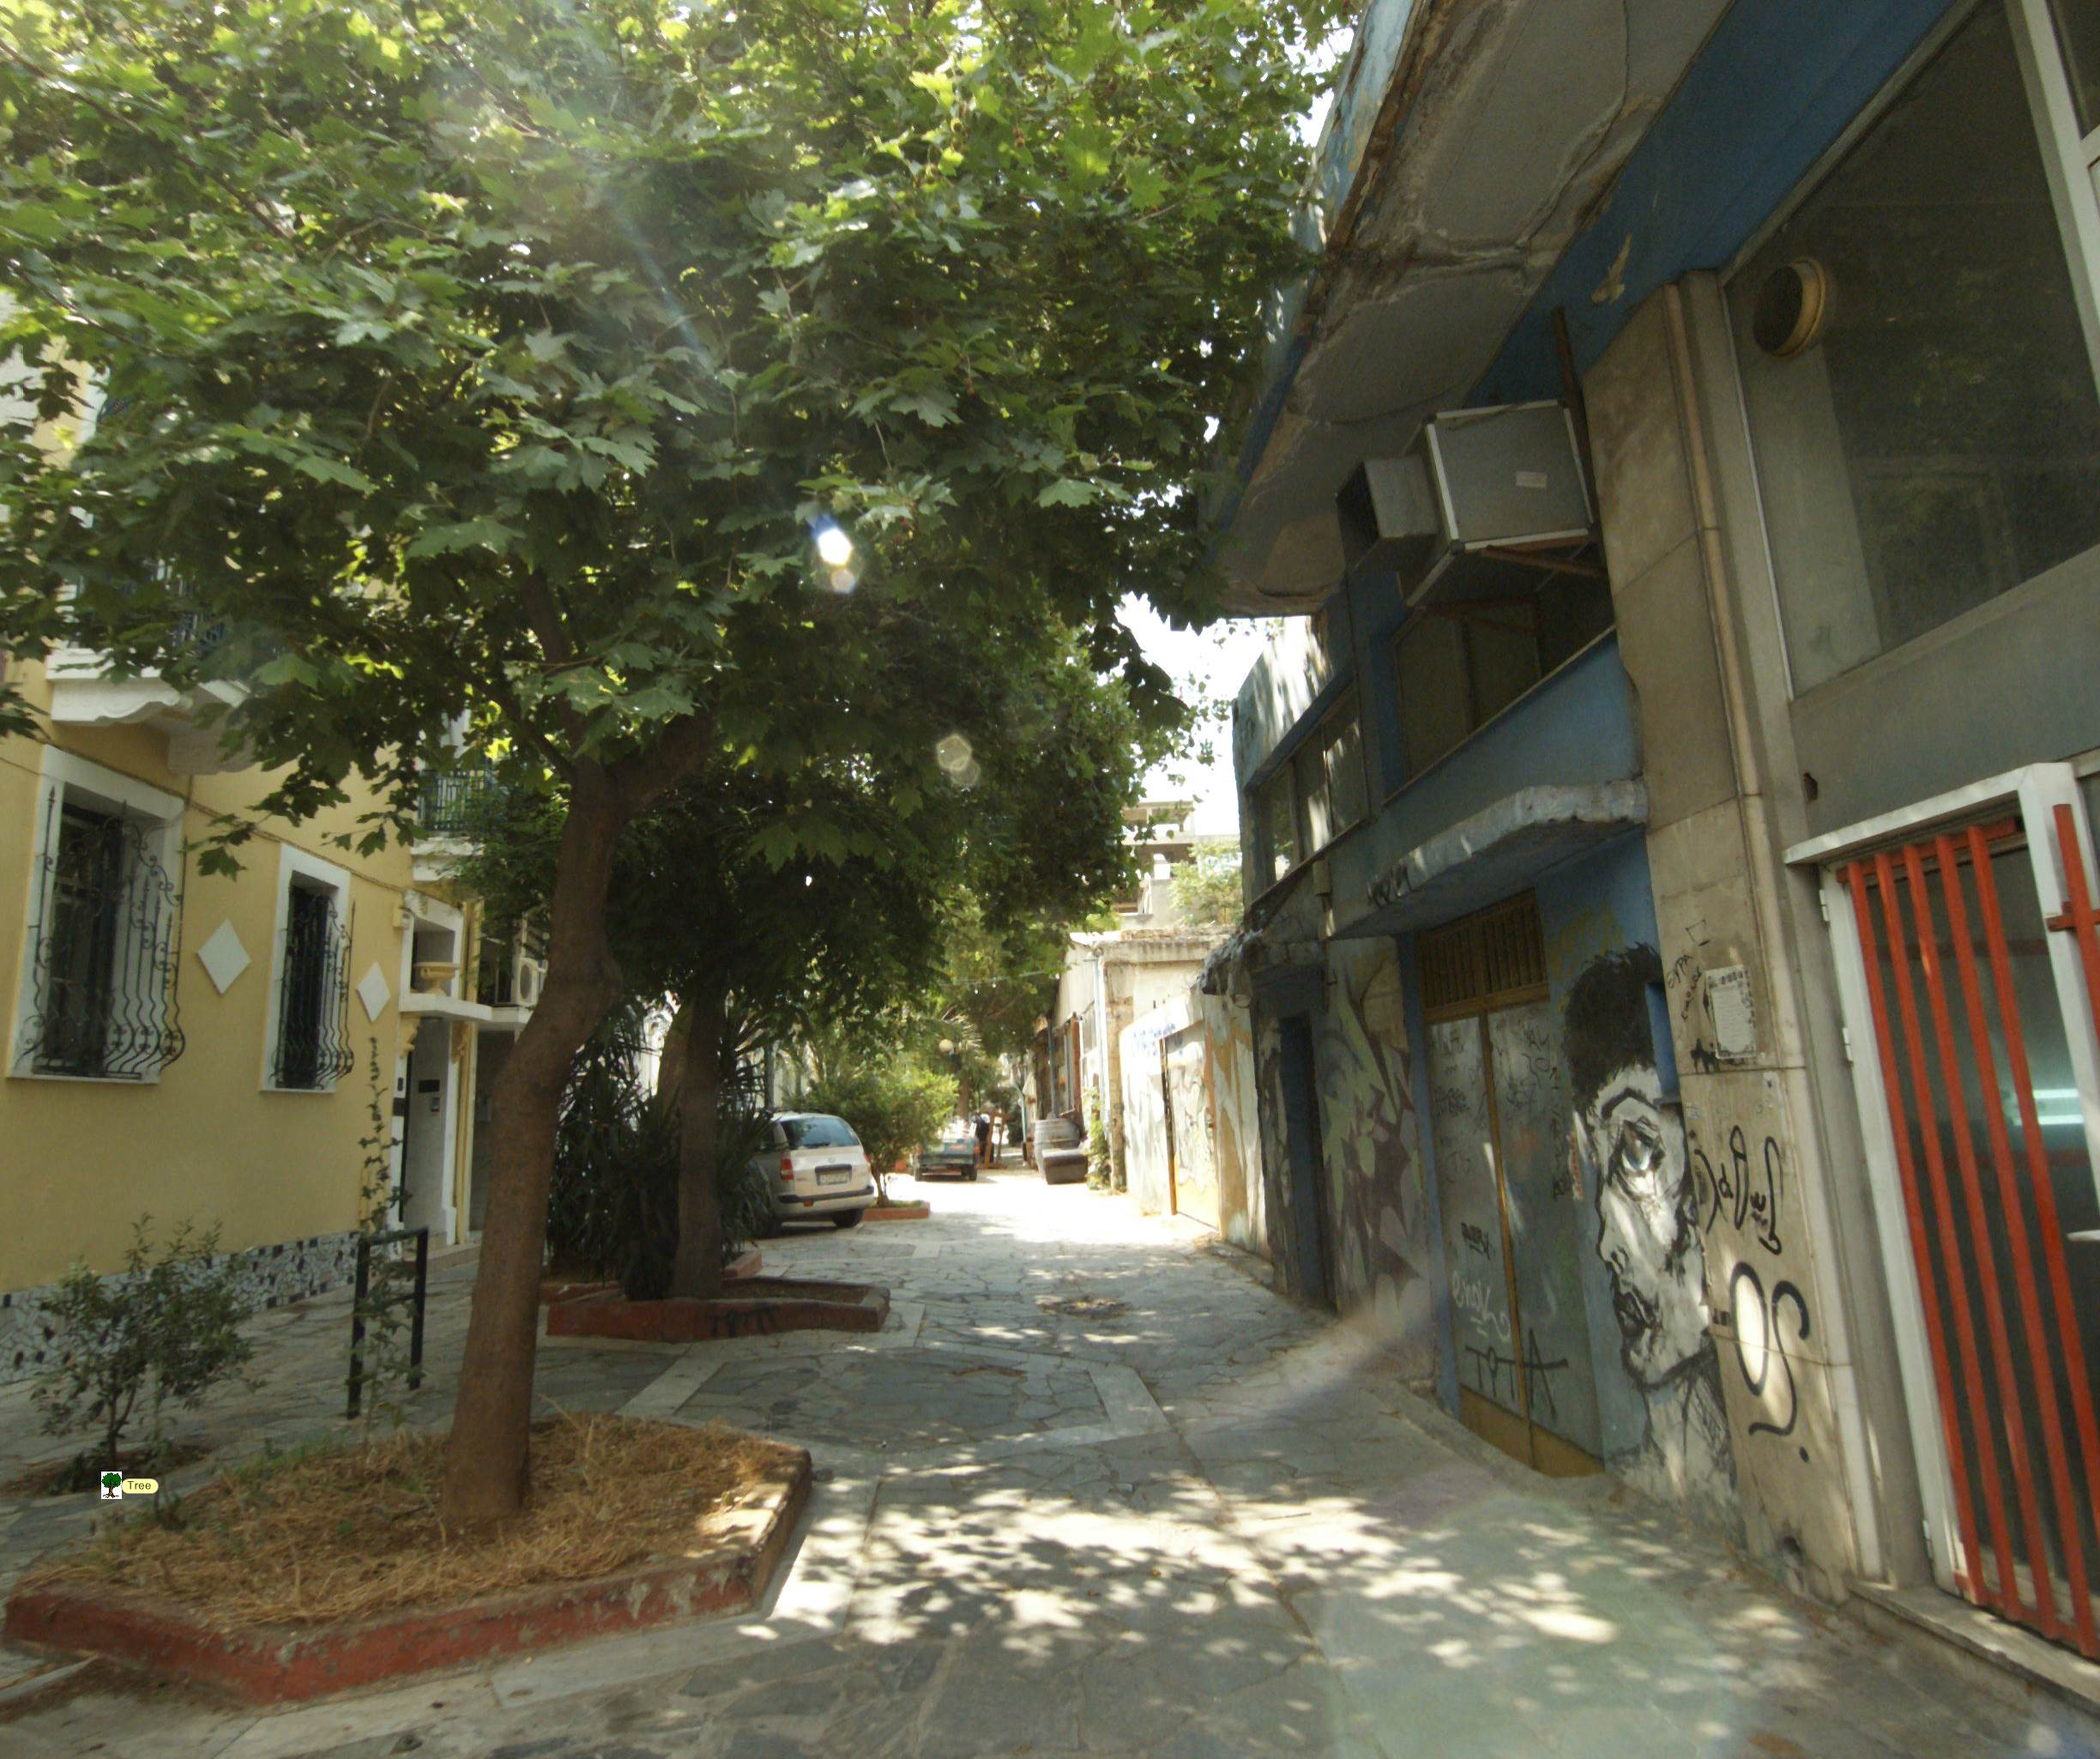tree: (73, 28, 1186, 1578)
